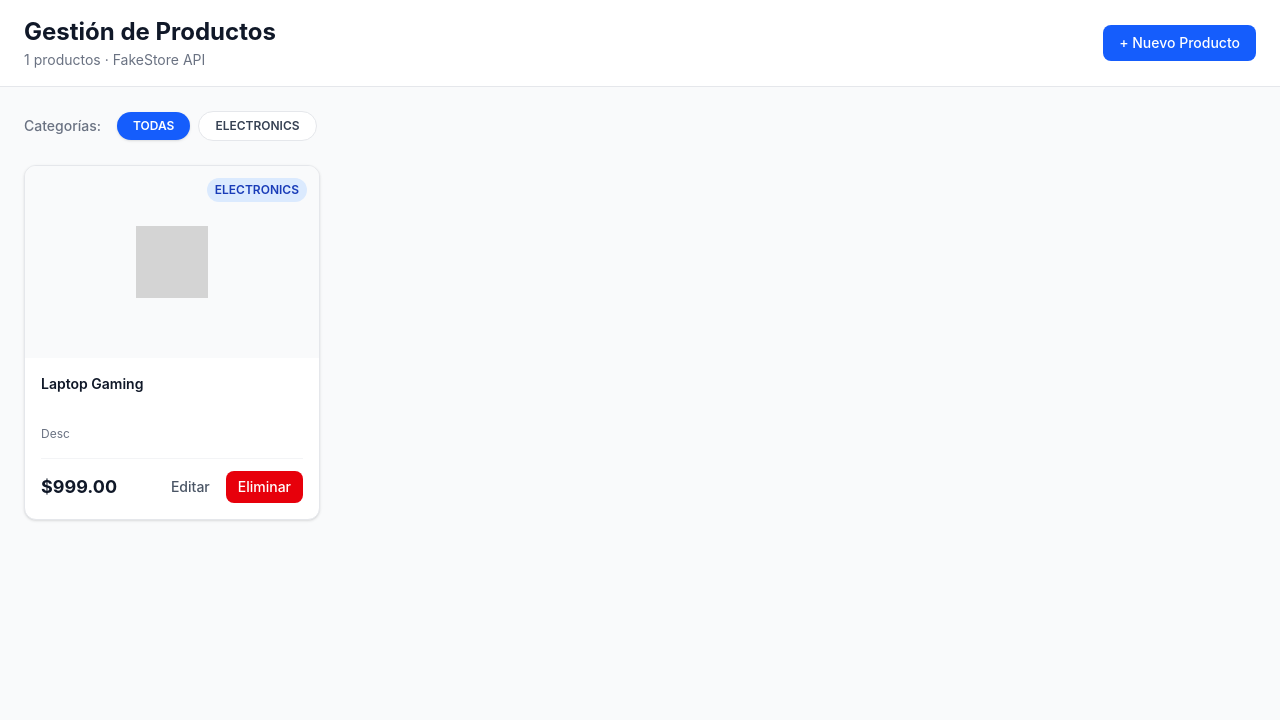
it: ProductsPage — integración › abre el modal de creación al hacer clic en "+ Nuevo Producto"
Expected: the heading "Laptop Gaming" is shown, [41, 375, 143, 392]
Click the button "+ Nuevo Producto" at point(1180, 43), box [1103, 25, 1256, 61]
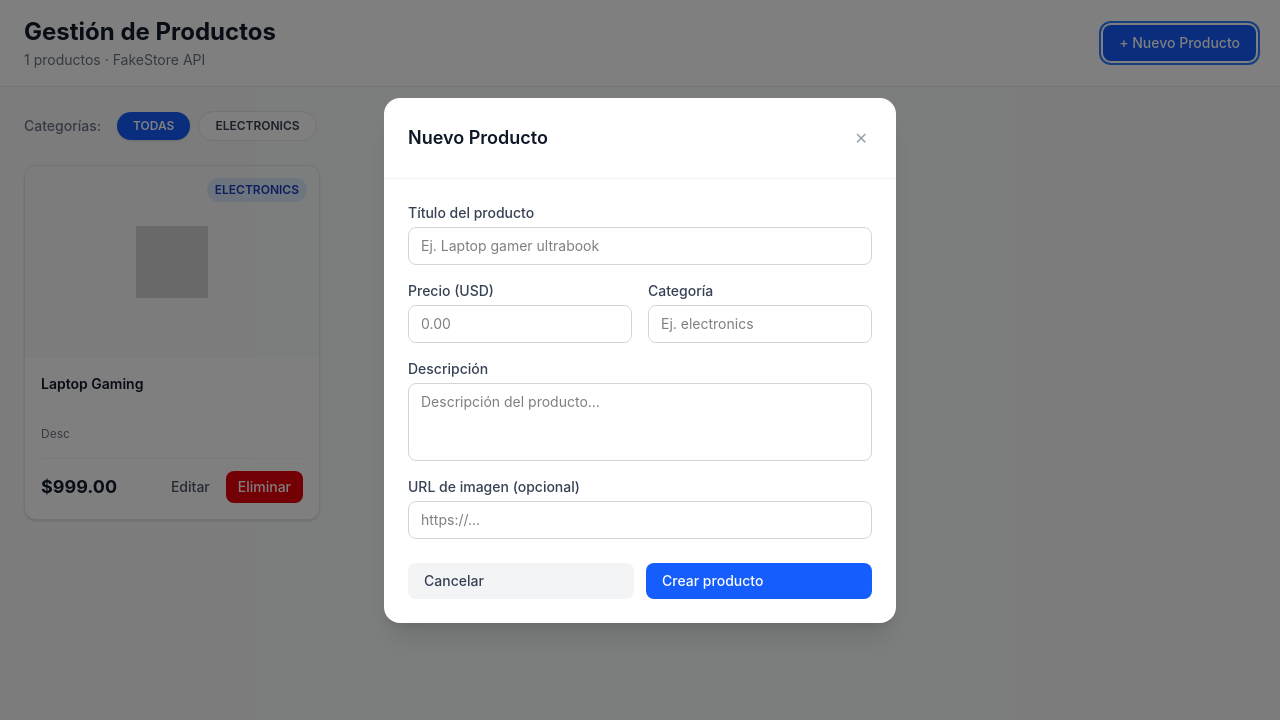
Now the dialog is shown
Now the heading "Nuevo Producto" is shown, box [408, 124, 548, 152]
